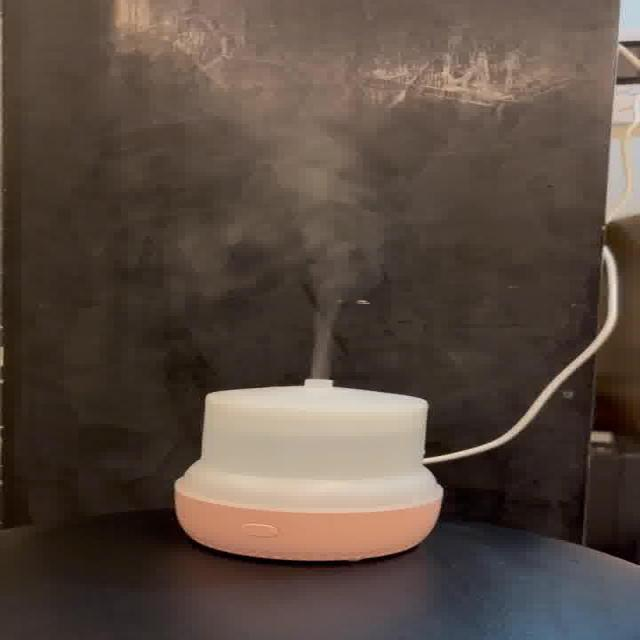fire: (254, 133, 391, 376)
